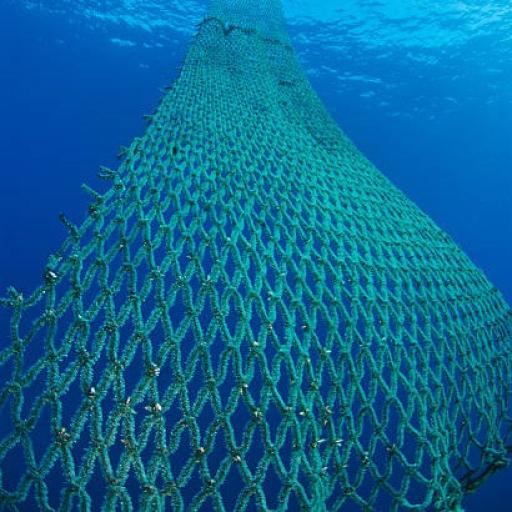net: (0, 17, 510, 512)
